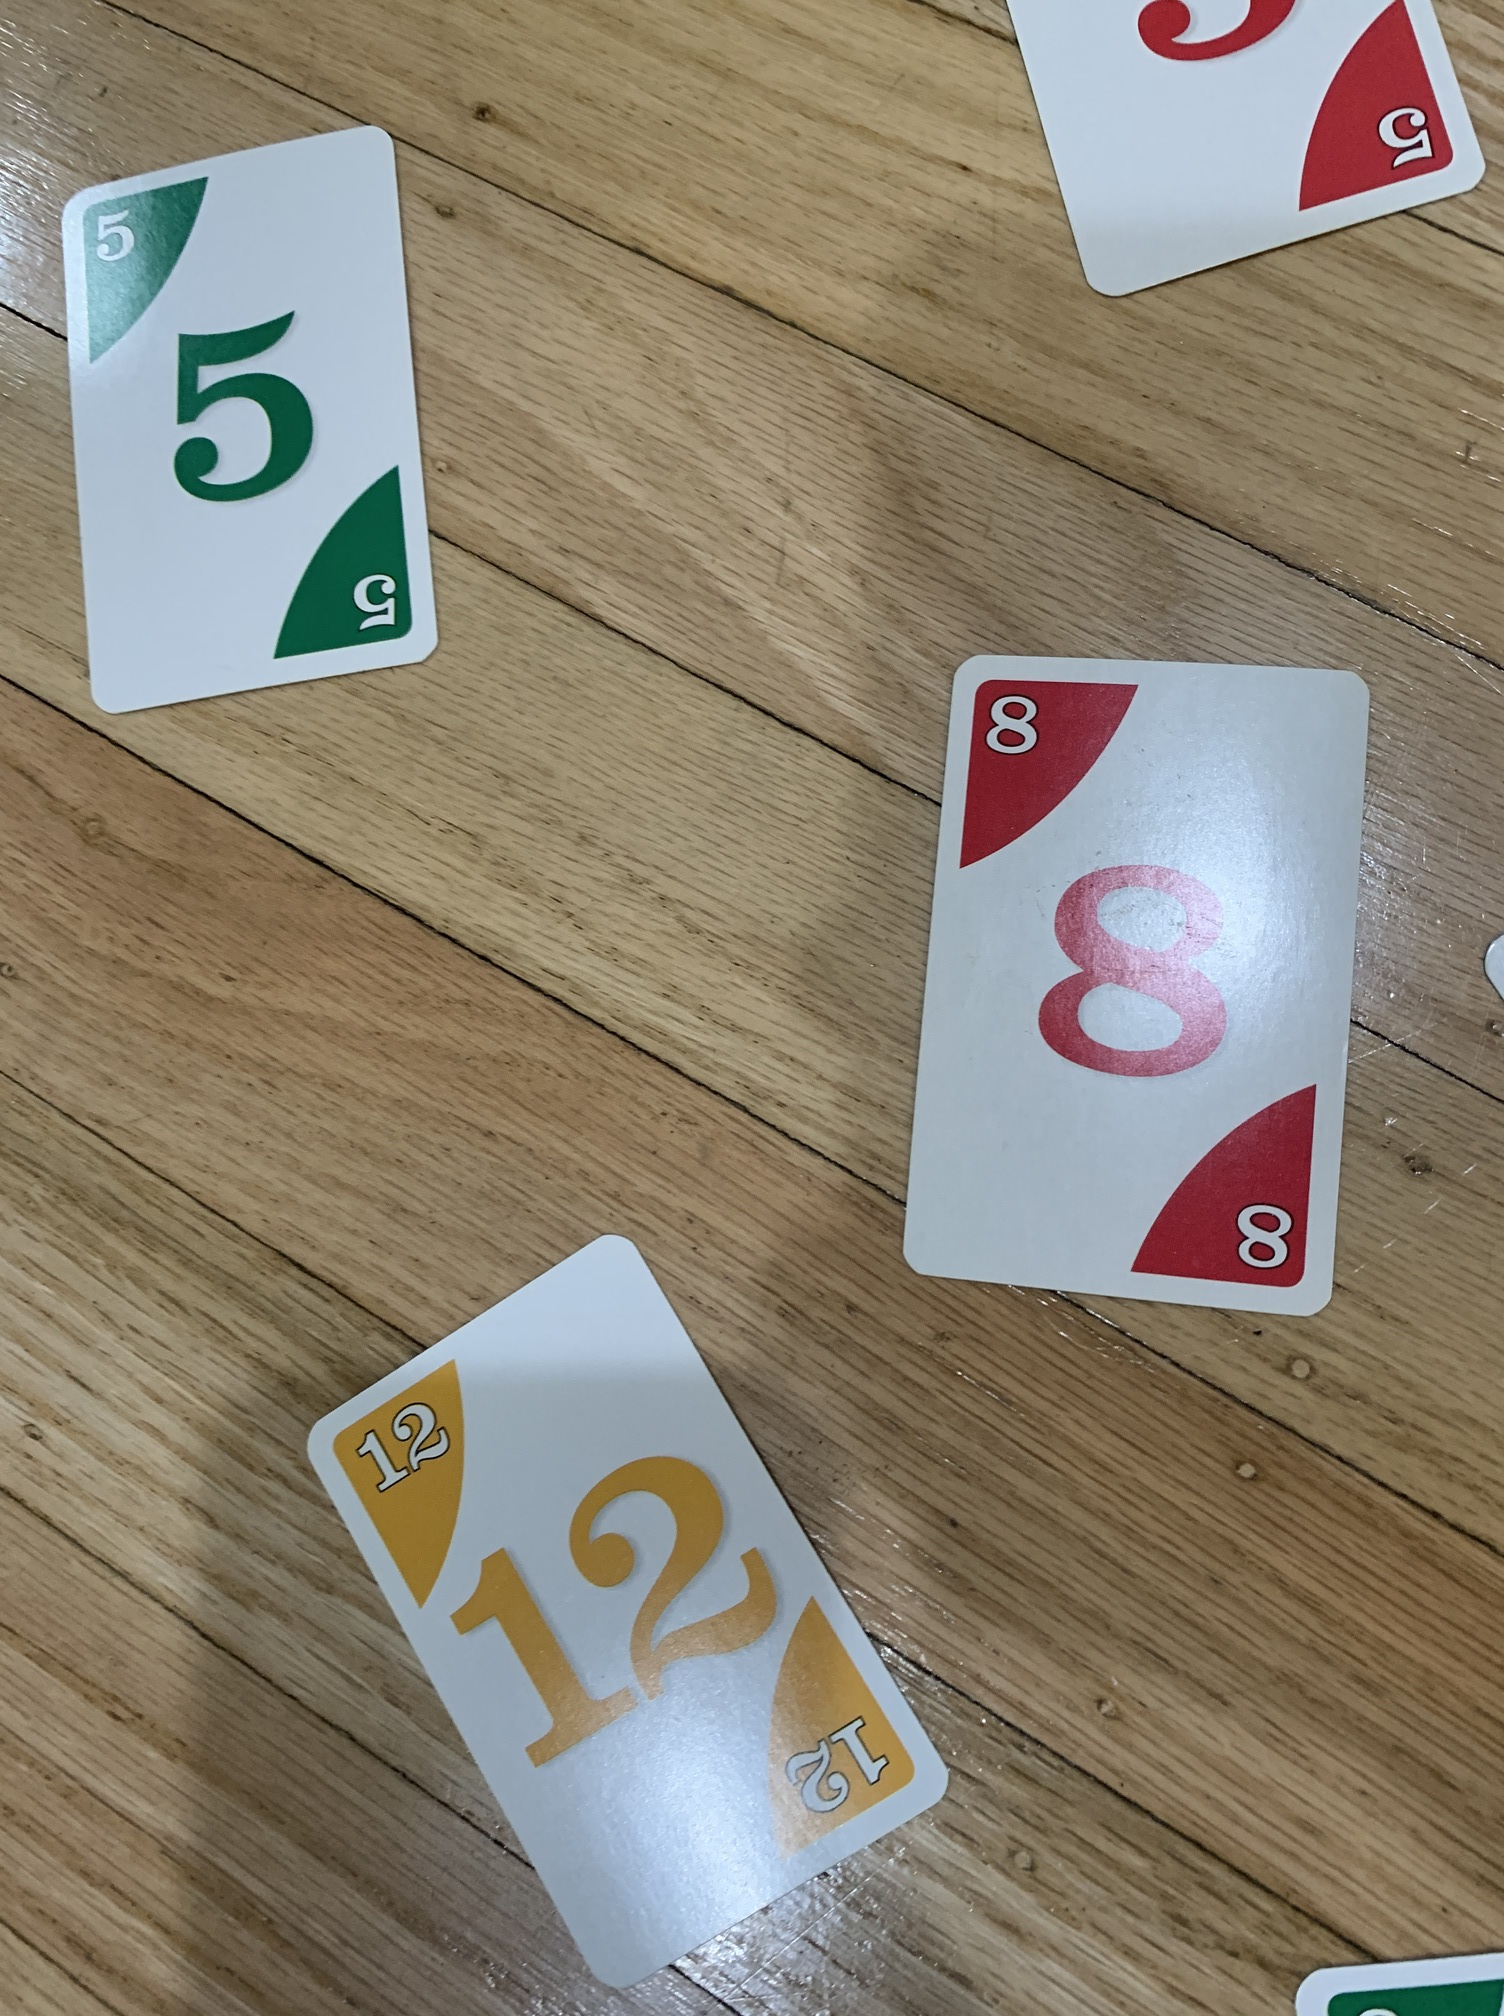eight: (901, 646, 1382, 1338)
five: (57, 114, 460, 732)
twelve: (292, 1221, 968, 2007)
